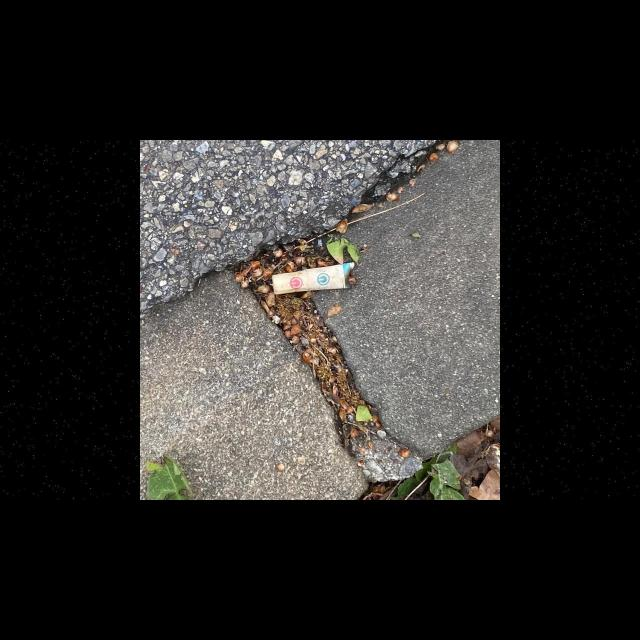cigarette: (271, 262, 355, 295)
